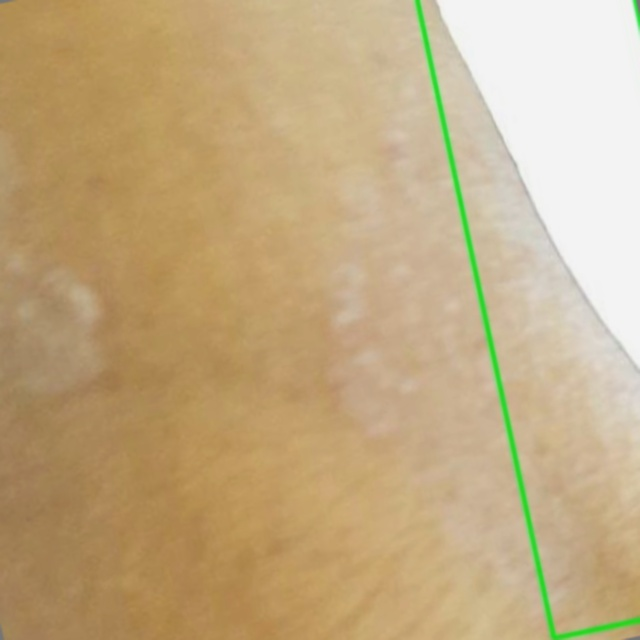Tinea Corporis: (417, 0, 639, 638)
